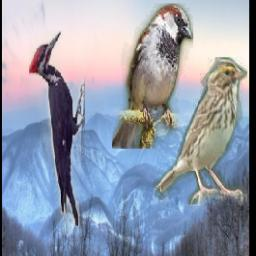Sparrow: (155, 58, 247, 207), (112, 3, 193, 149)
Woodpecker: (29, 31, 85, 227)
